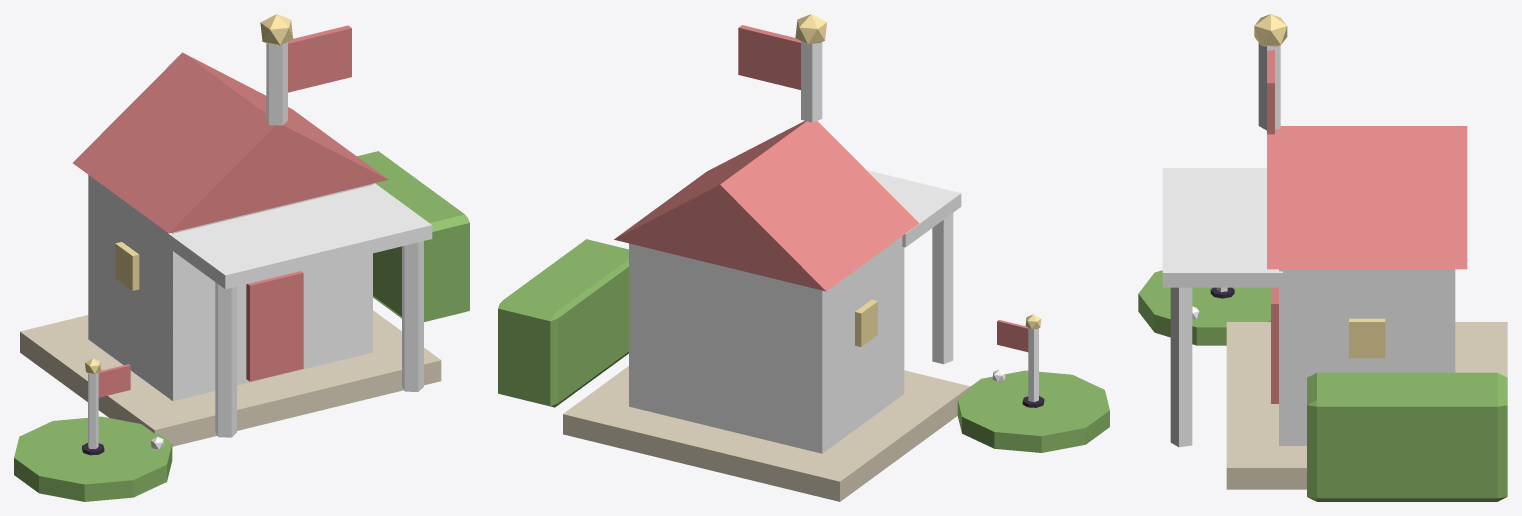
The model's file is park-landmark-s2c.glb.
3 renders of one model, left to right at view 1: azimuth 30°, elevation 25°; view 2: azimuth 150°, elevation 25°; view 3: azimuth 270°, elevation 25°, orthographic. The views are drawn at different scales.
Visible parts, largest first — view 1: park-landmark-s2c; view 2: park-landmark-s2c; view 3: park-landmark-s2c.
Boxes of the visible parts, <box> form: park-landmark-s2c: <box>14,14,469,501</box>; park-landmark-s2c: <box>498,14,1109,501</box>; park-landmark-s2c: <box>1138,14,1507,501</box>.
Bounding box in the file's own units: 1.46 × 1.11 × 0.92.
